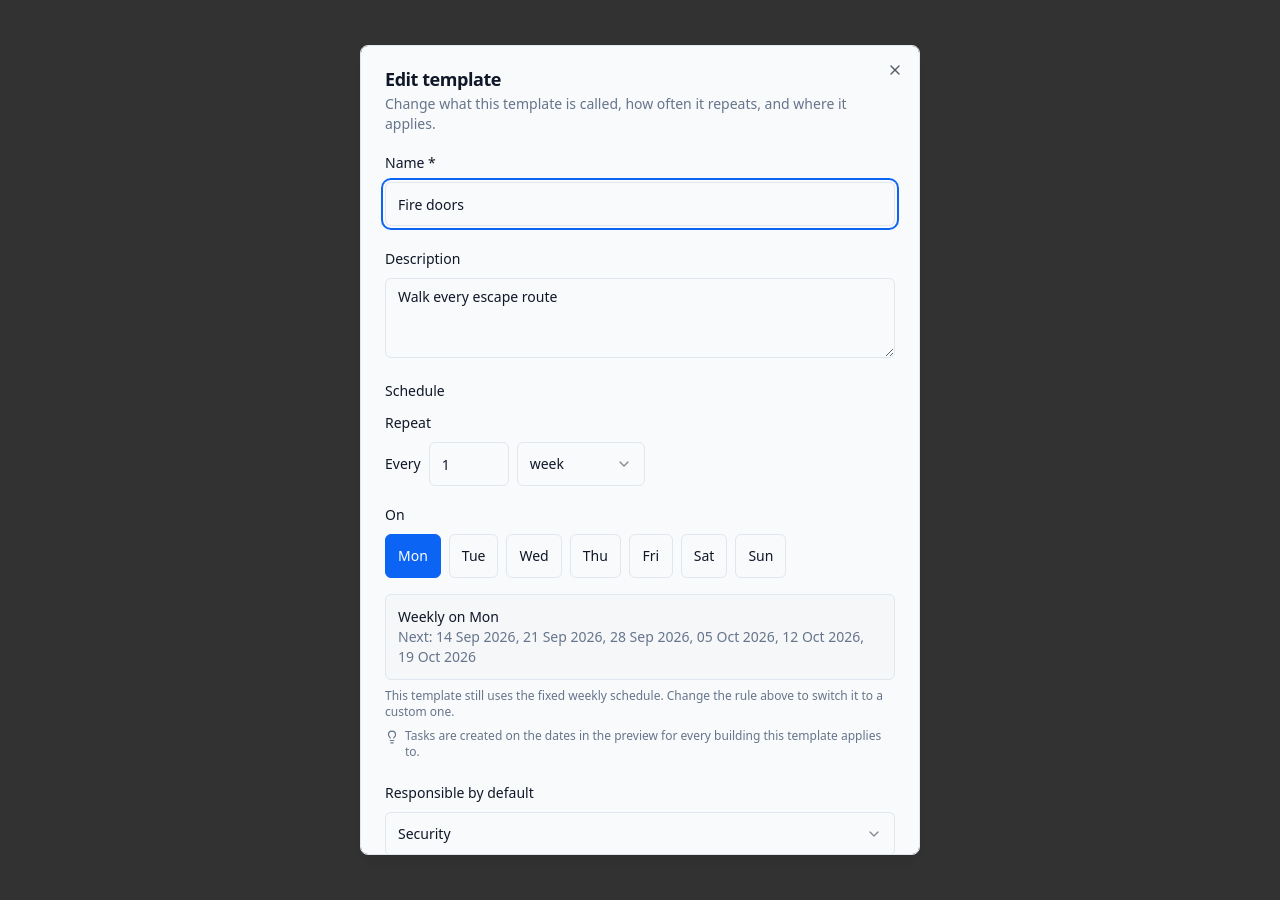
Test: TemplateDialog › editing a legacy template’s weekday switches it to a rule and offers to regenerate
The width and height of the screenshot is (1280, 900).
Check: the text with test id "template-legacy-note" shows "fixed weekly schedule", box [385,688,895,720]
Click the button with aria-label "Wednesday". click: (534, 556)
box: [506,534,562,578]
(page scrolled)
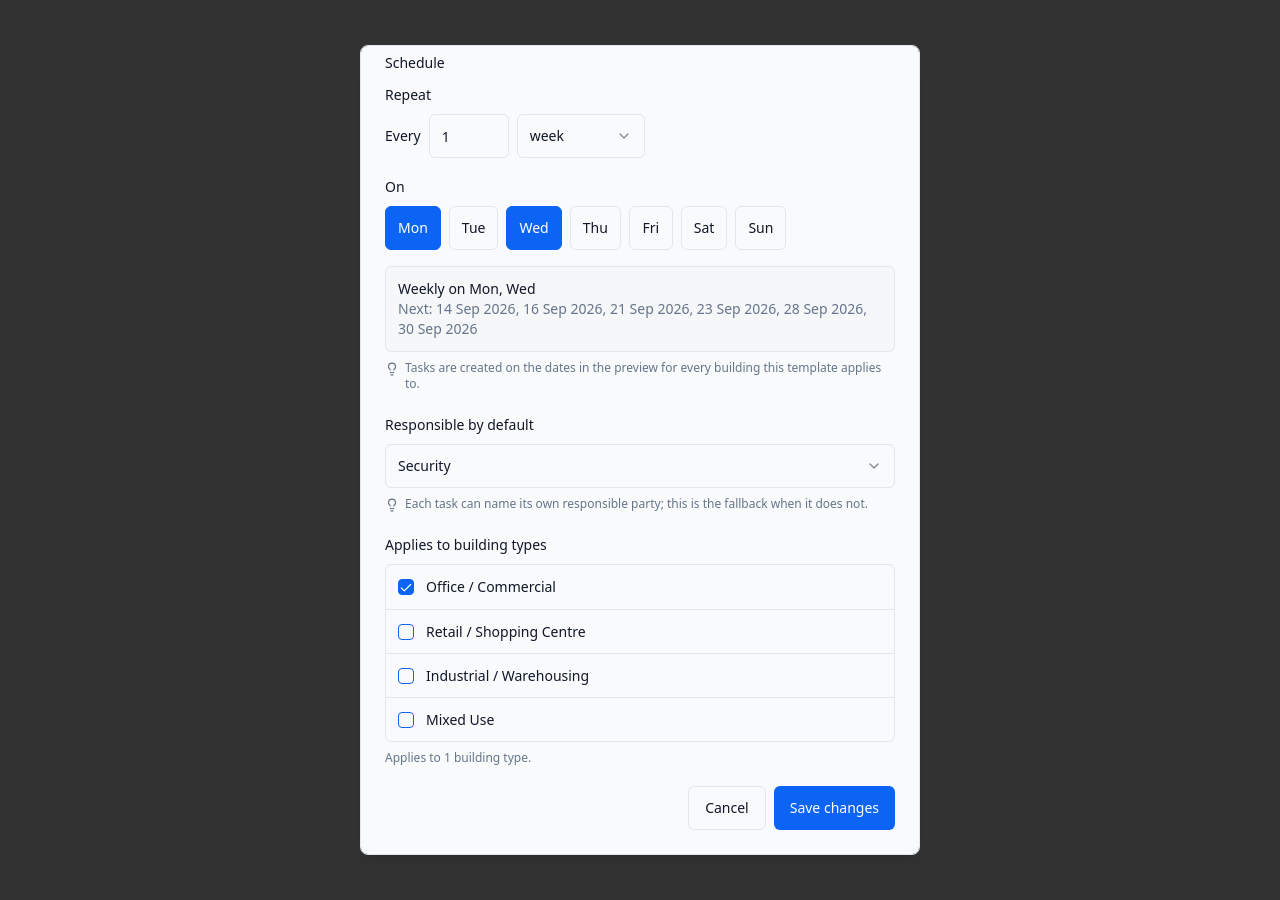
Check: the text with test id "template-legacy-note" is gone
Click the button "Save changes". click: (834, 808)
box: [774,786,895,830]
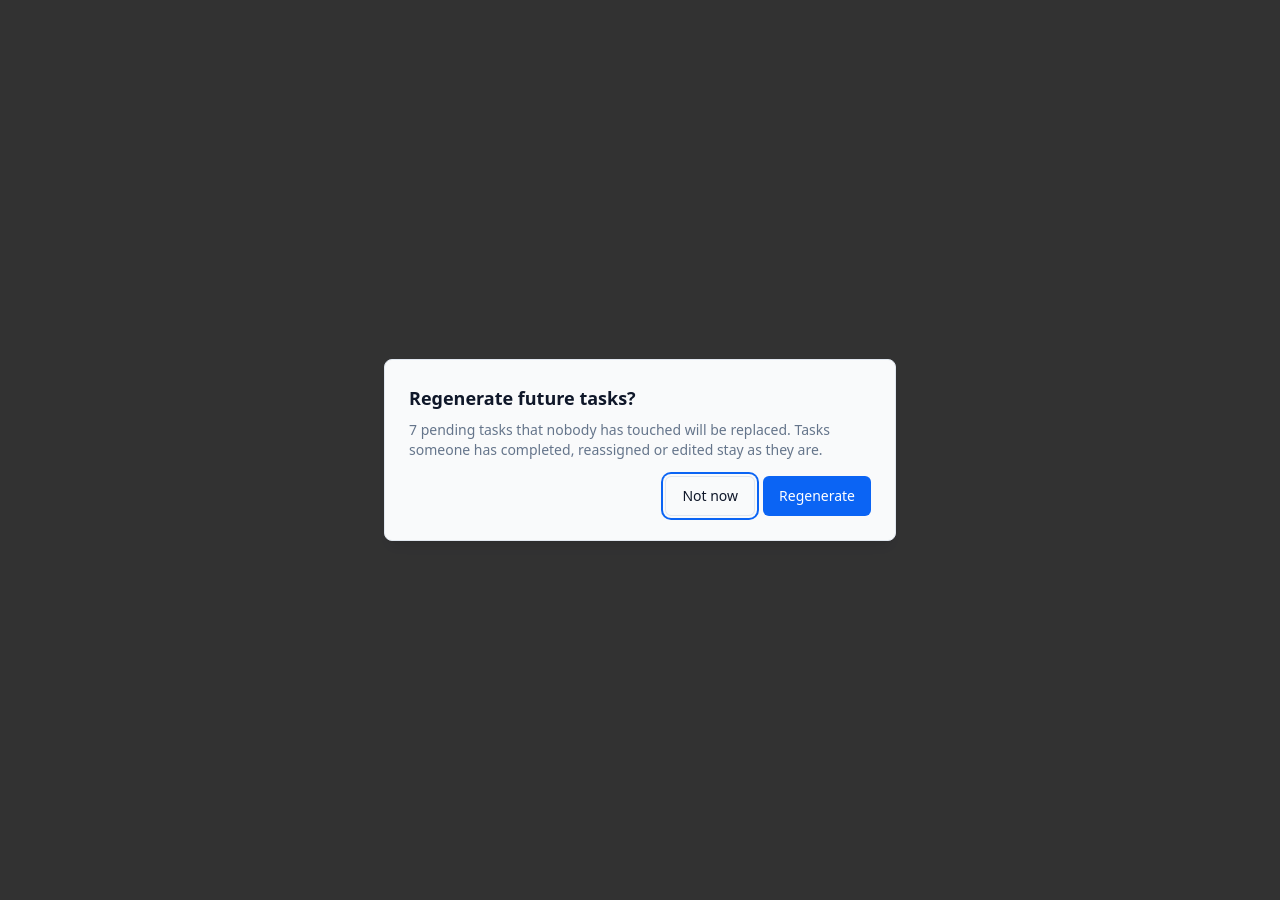
Check: the heading "Regenerate future tasks?" is shown, box [409,386,636,410]
